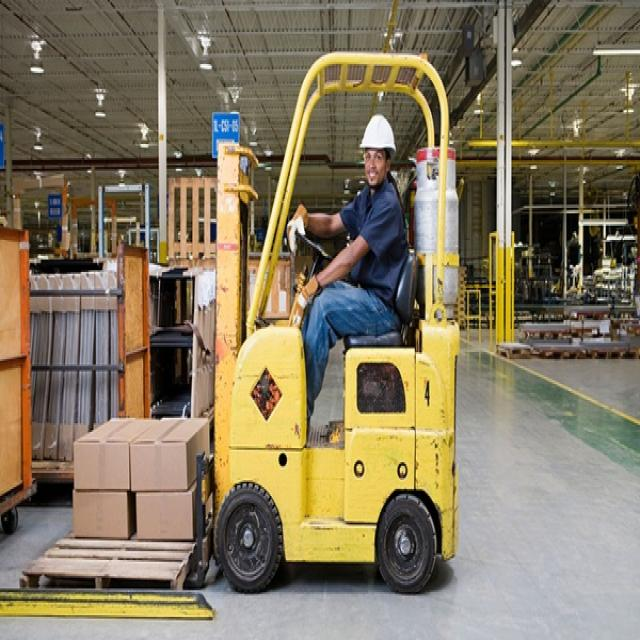Person: (286, 117, 411, 447)
